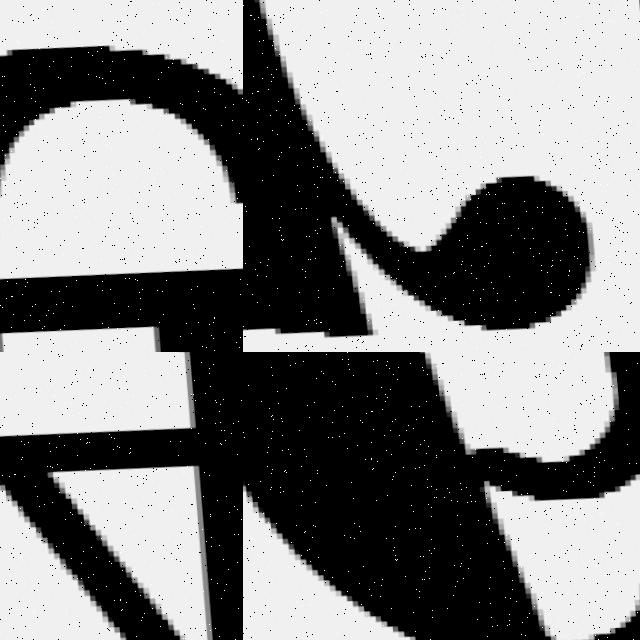6: (243, 352, 640, 640)
E: (0, 40, 243, 199), (0, 259, 243, 352)
R: (243, 0, 610, 352)
